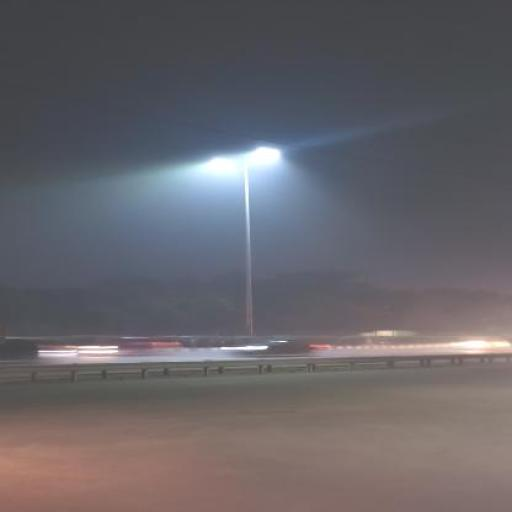street light: (210, 146, 282, 338)
